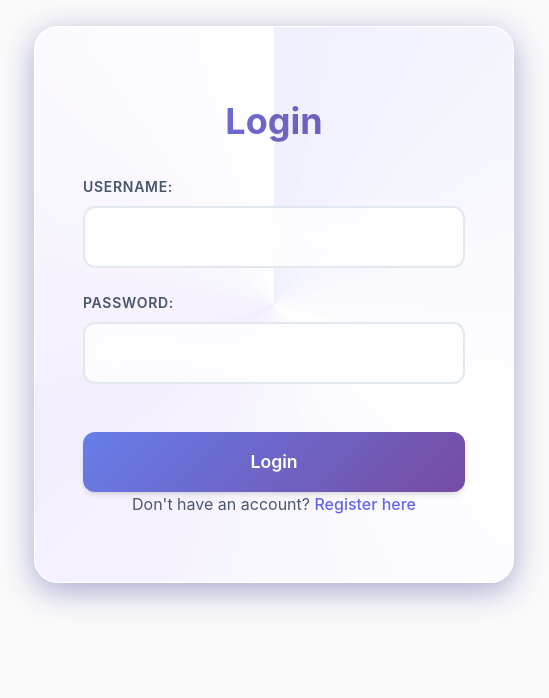
Scenario: Auth Component › handles successful registration
Click the text "Register here" at point(365, 504), box x1=314 y1=494 x2=416 y2=514
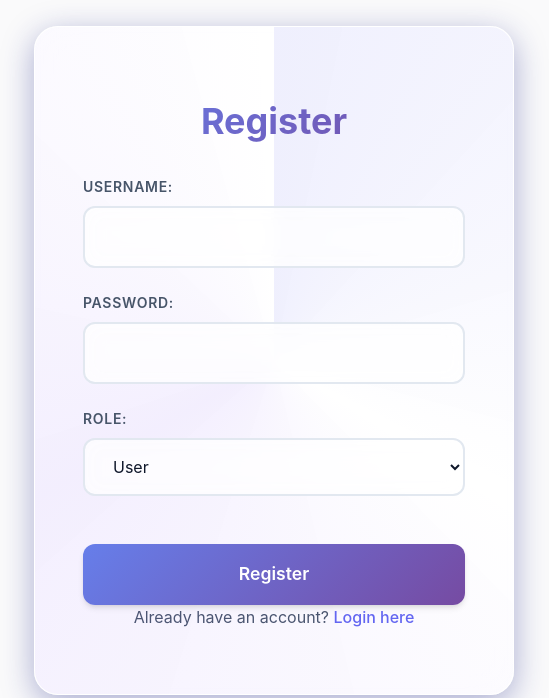
Type "newuser" into the field labelled "Username:" at point(274, 237), box x1=83 y1=206 x2=465 y2=268
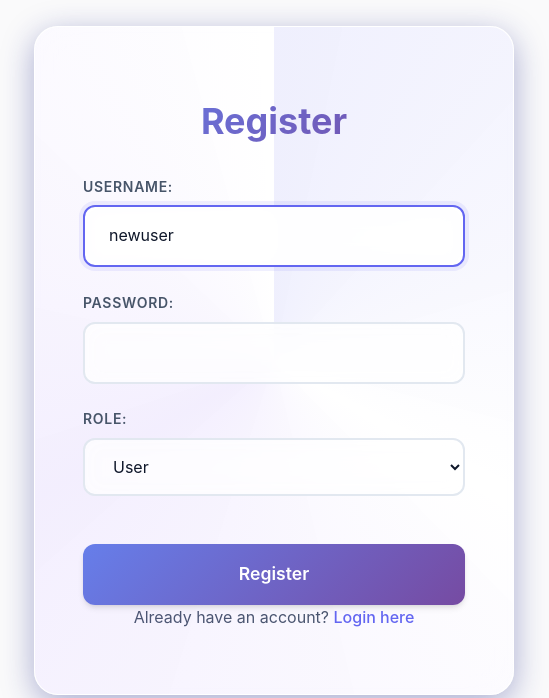
Type "newpassword" into the password field labelled "Password:" at point(274, 353), box x1=83 y1=322 x2=465 y2=384
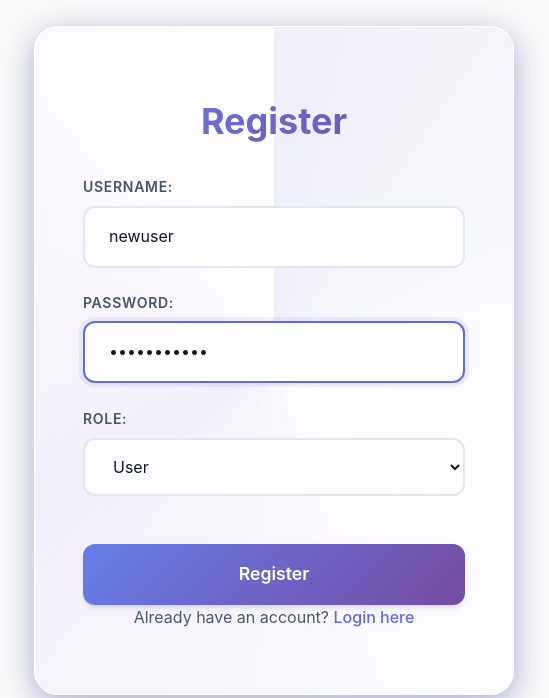
Select "Admin" in the dropdown labelled "Role:" at point(274, 467), box x1=83 y1=438 x2=465 y2=496
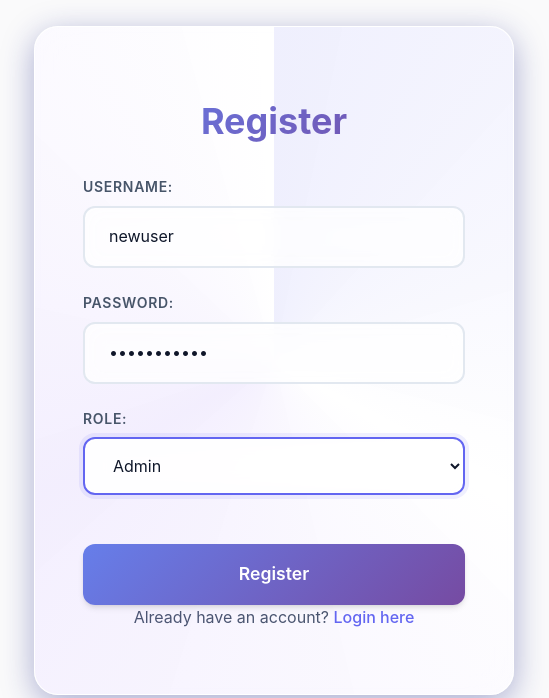
Click the button "Register" at point(274, 574), box x1=83 y1=544 x2=465 y2=604
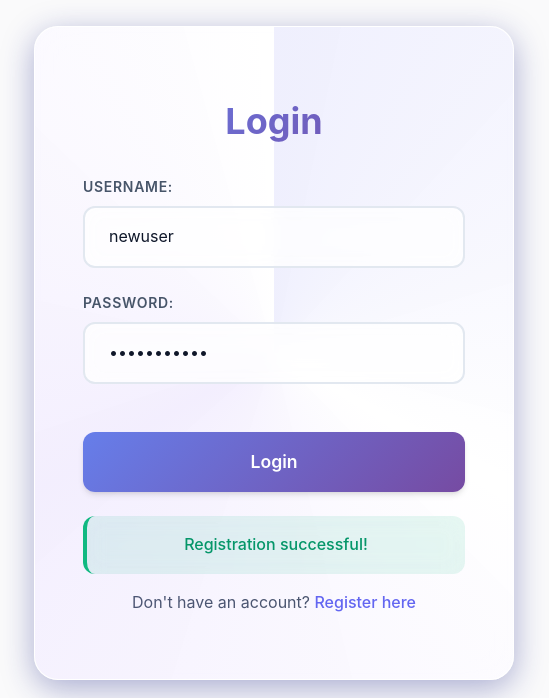
Check: the text "Registration successful!" is shown, box x1=83 y1=516 x2=465 y2=574
Check: the heading "Login" is shown, box x1=83 y1=99 x2=465 y2=144
